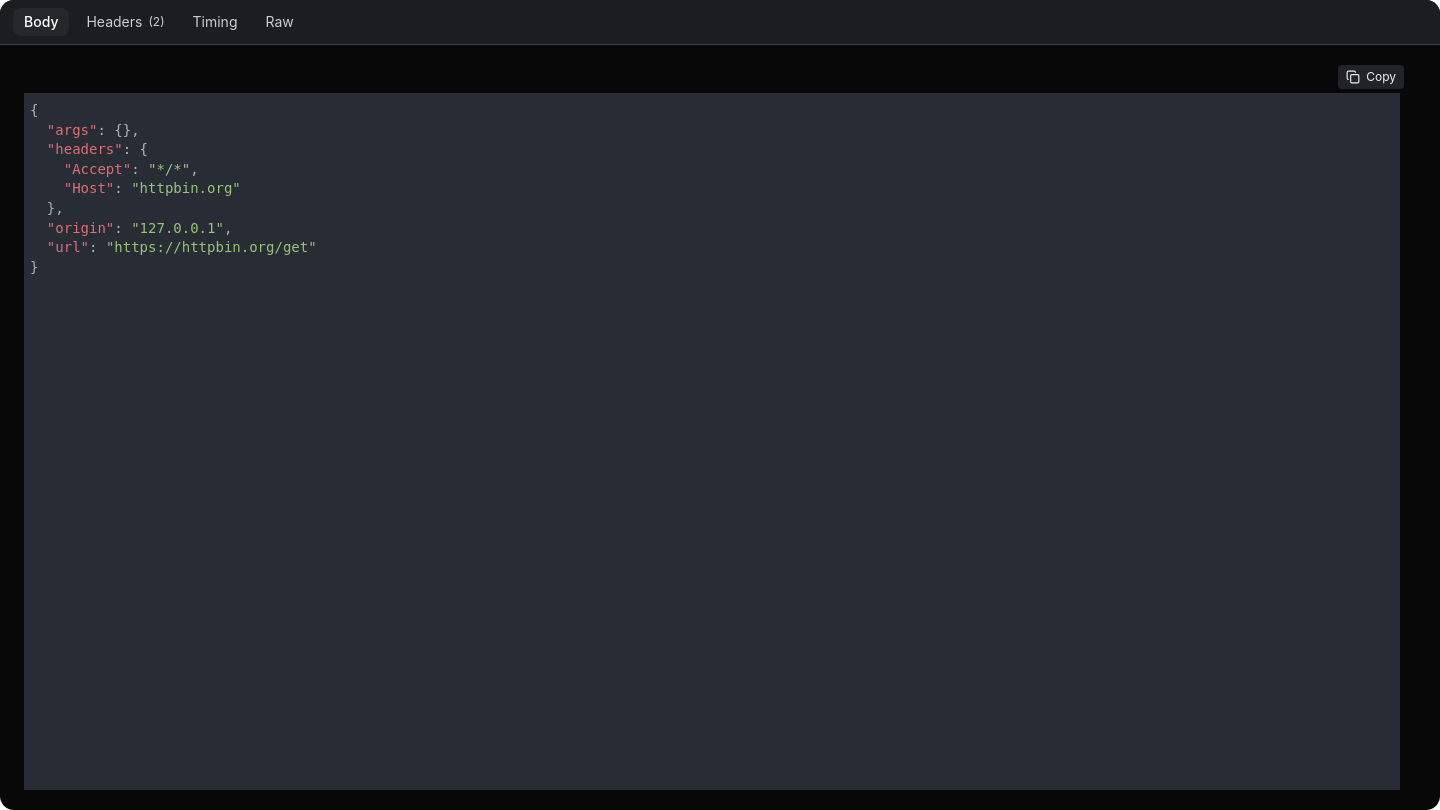
Test: ResponseViewer › displays headers in headers tab
Click the tab with test id "response-tab-headers".
click(126, 22)  # box [74,8,177,36]
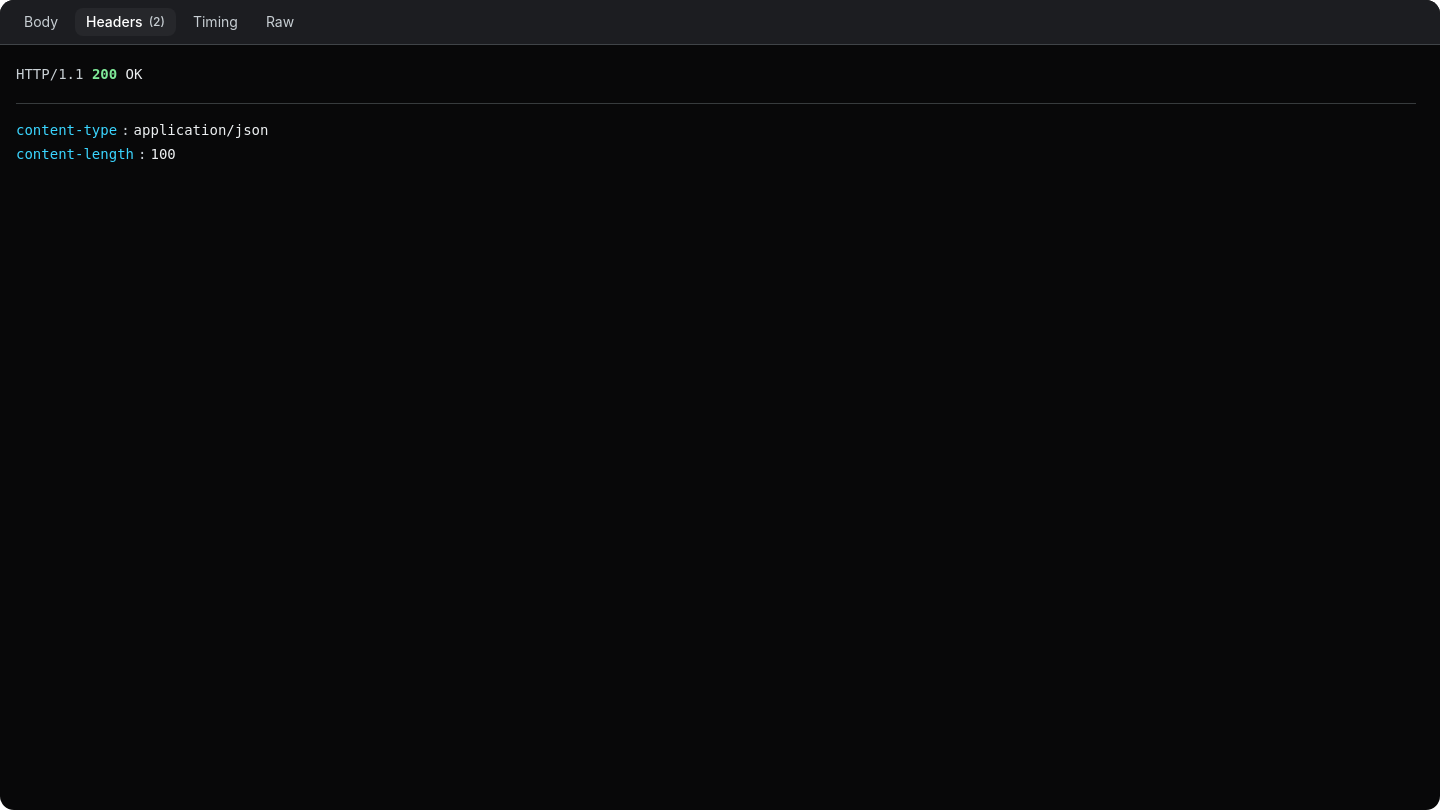
Expected: the element with test id "response-viewer" is shown, [0,0,1439,162]
Result: the text "200" is shown at [92,66,117,82]
